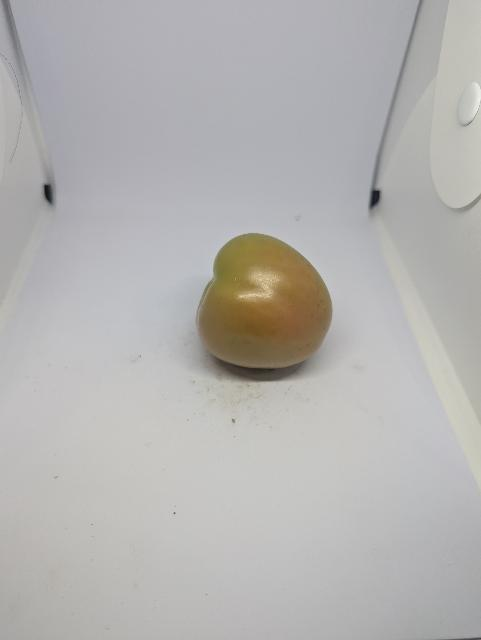breaker: (197, 233, 333, 368)
